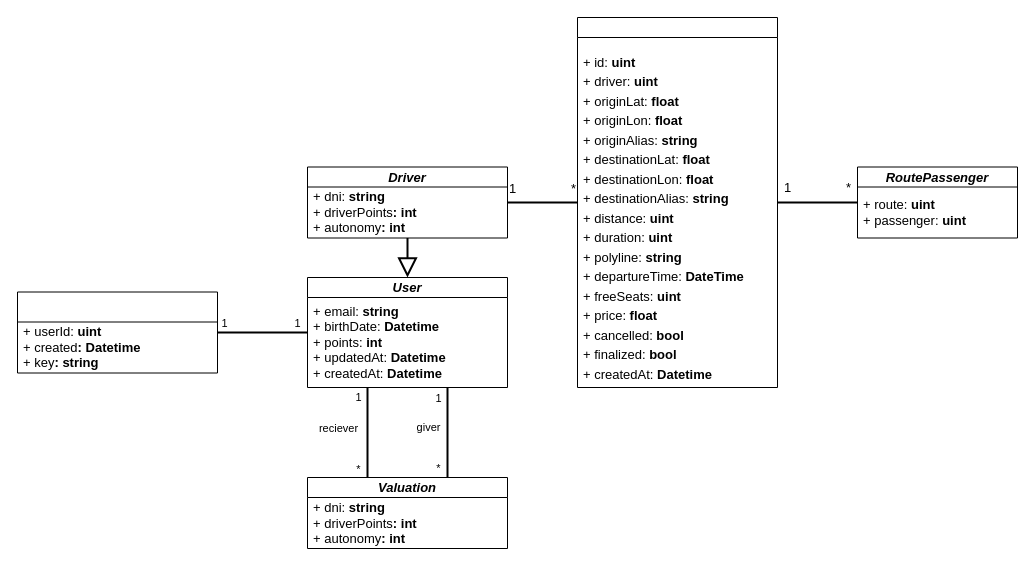
Some shapes in this 1035 by 566 pixel diagram are drawn without their labels. Each missing label, with the box of its shape:
Route: (576, 16, 778, 388)
Token (rest_framework.authtoken): (16, 291, 218, 373)
